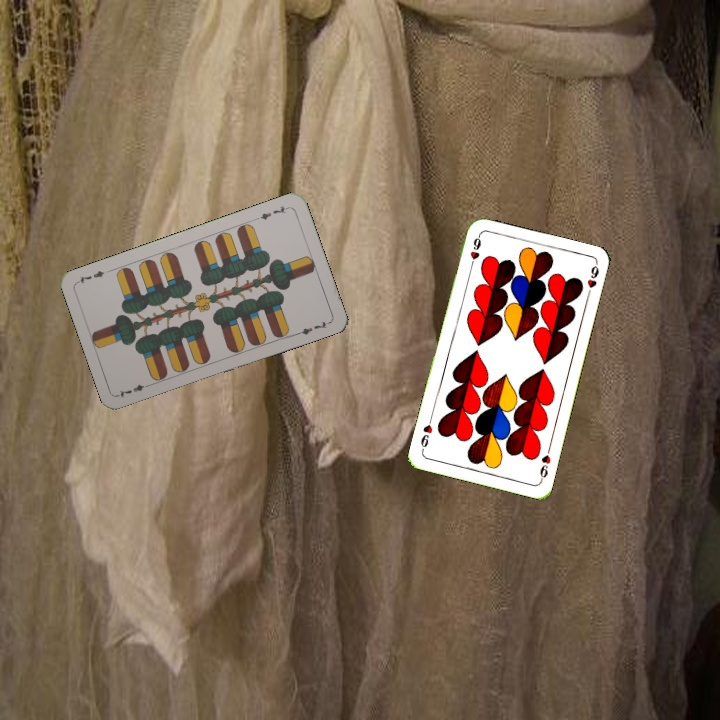E7: (252, 202, 291, 223), (115, 379, 154, 400)
H9: (466, 231, 484, 271), (536, 443, 553, 484)
